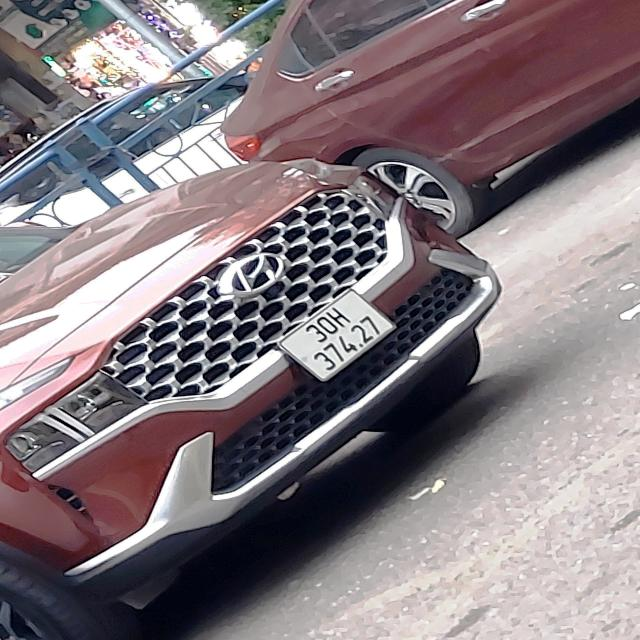license_plate: (262, 281, 409, 390)
